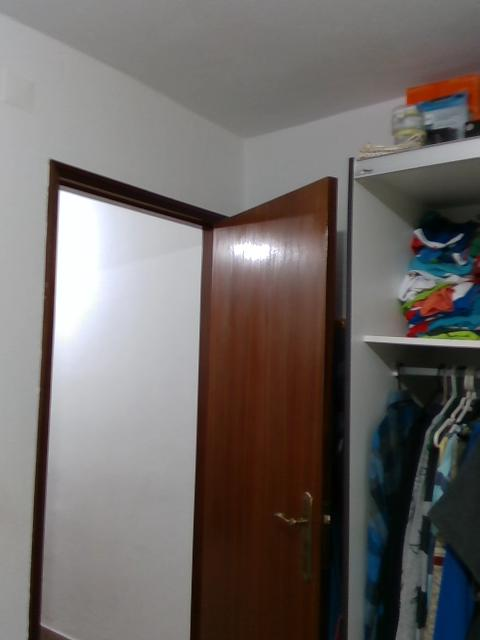open_door: (28, 156, 242, 638)
